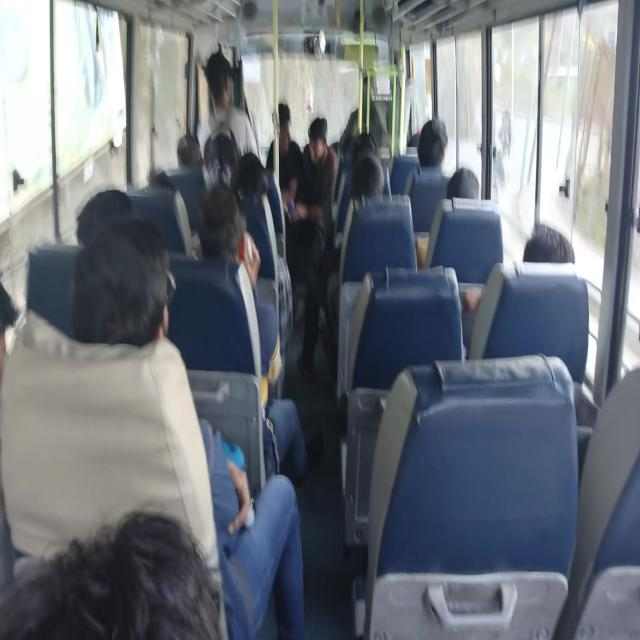person: (69, 216, 305, 638), (194, 184, 320, 485), (1, 509, 229, 639), (198, 417, 304, 638), (460, 224, 575, 358), (296, 117, 340, 377), (195, 50, 259, 166), (265, 101, 305, 217), (301, 116, 339, 236), (75, 188, 133, 247), (523, 224, 575, 264), (349, 152, 385, 202), (417, 118, 448, 168), (446, 166, 479, 199)
